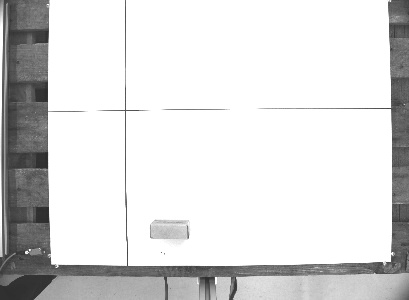b1: (147, 217, 192, 241)
